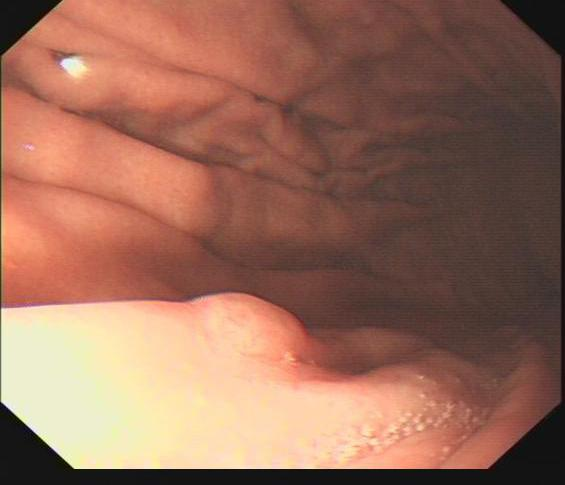Polyp: (182, 292, 309, 357)
